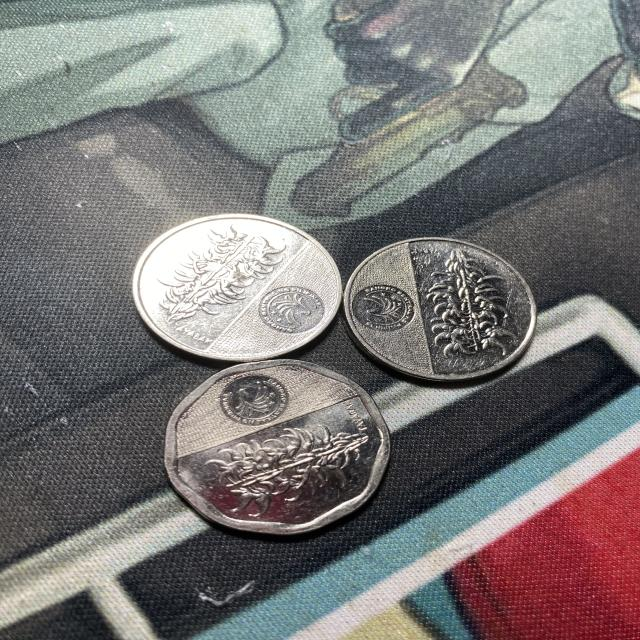5_New_Back: (214, 428, 379, 510), (156, 216, 264, 321), (428, 247, 509, 368)
